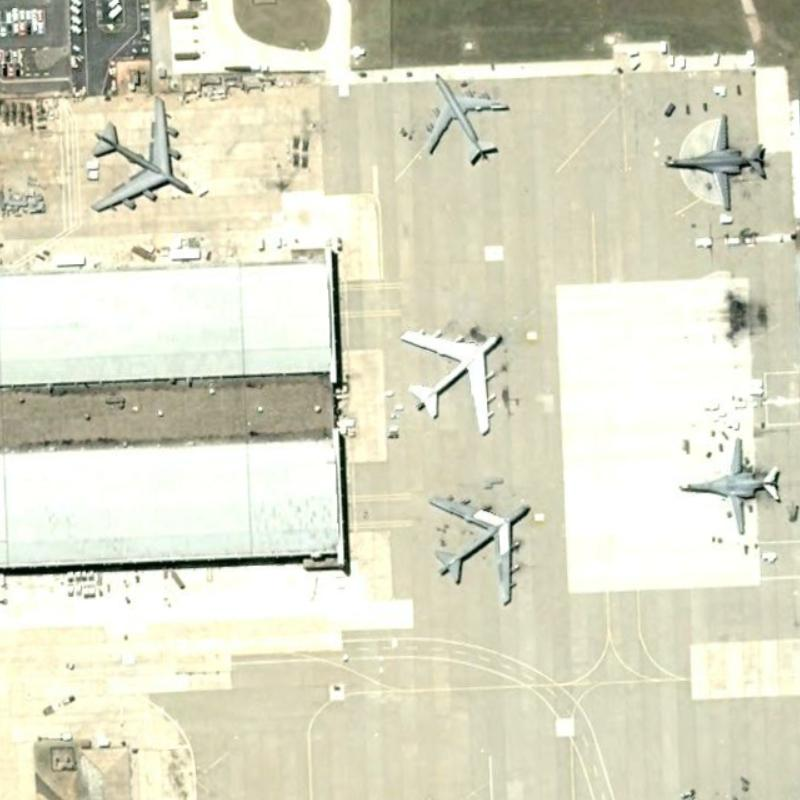A10: (675, 427, 786, 539), (657, 109, 774, 215)
A14: (418, 68, 515, 166)
A8: (425, 479, 539, 612), (82, 92, 201, 218), (392, 310, 509, 438)
